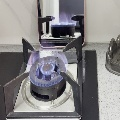fire: (27, 41, 68, 87)
